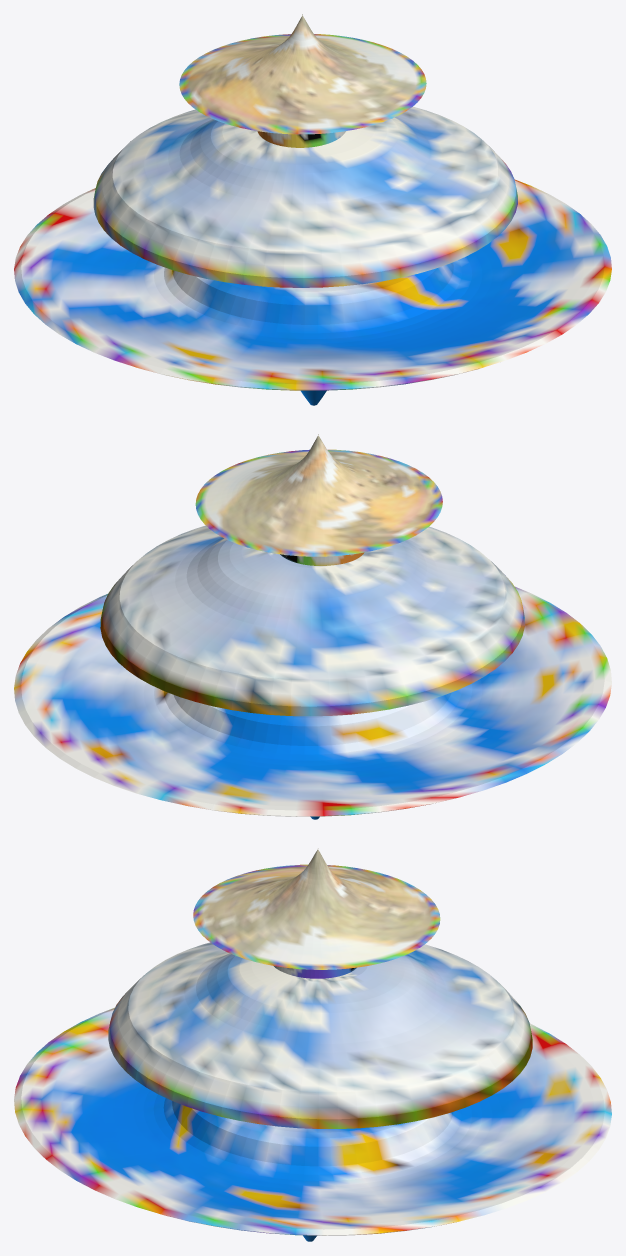
The model's file is april28outdoorpagoda10.glb.
The picture shows the model from 3 angles, top to bottom: view 1: azimuth 30°, elevation 25°; view 2: azimuth 150°, elevation 25°; view 3: azimuth 270°, elevation 25°; orthographic projection.
Parts seen in each view (by area): view 1: Lathe 4, Lathe 3, Lathe, Lathe.001; view 2: Lathe 4, Lathe 3, Lathe, Lathe.001; view 3: Lathe 4, Lathe 3, Lathe, Lathe.001.
Part boxes in pixels (x1=…): Lathe 4: x1=14, y1=179, x2=611, y2=405; Lathe 3: x1=93, y1=106, x2=517, y2=287; Lathe: x1=179, y1=14, x2=426, y2=134; Lathe.001: x1=257, y1=131, x2=345, y2=147; Lathe 4: x1=14, y1=586, x2=611, y2=819; Lathe 3: x1=100, y1=525, x2=524, y2=716; Lathe: x1=195, y1=434, x2=442, y2=556; Lathe.001: x1=280, y1=552, x2=364, y2=565; Lathe 4: x1=14, y1=1007, x2=611, y2=1241; Lathe 3: x1=108, y1=942, x2=532, y2=1128; Lathe: x1=193, y1=848, x2=440, y2=969; Lathe.001: x1=274, y1=966, x2=356, y2=978.
Bounding box in the file's own units: 3.74 × 2.68 × 3.74.
